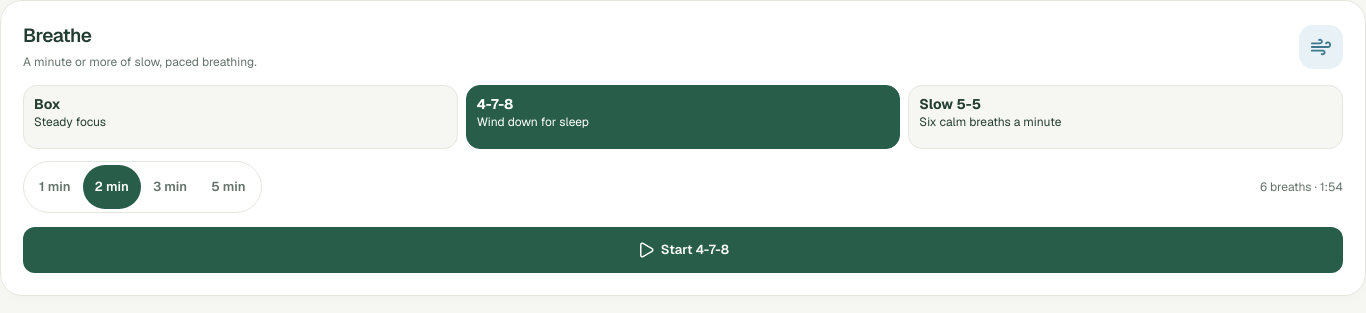
Test: Breathing › offers 4-7-8 in the evening and remembers the choice
expect the text "6 breaths · 1:54" is shown: met, box [1260,178,1343,196]
Click the button "Box Steady focus" at (70, 122), box [23,85,458,149]
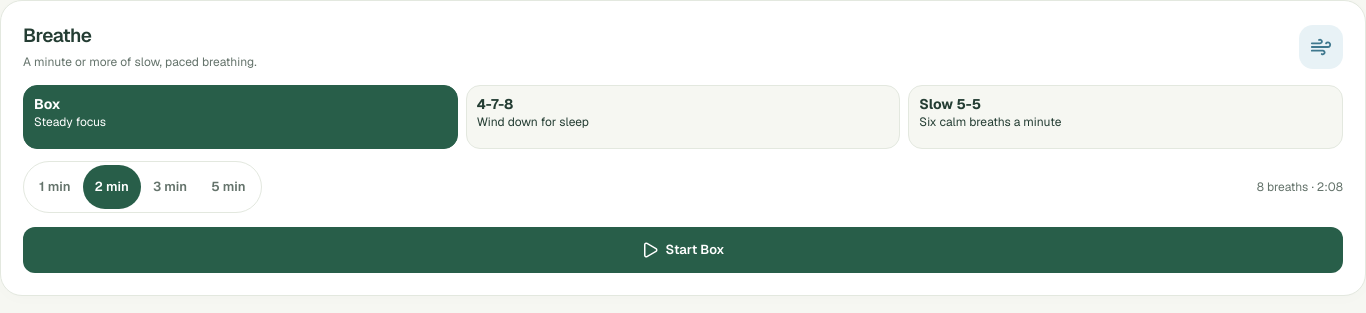
Click the button "5 min" at (228, 187), box [199,165,258,209]
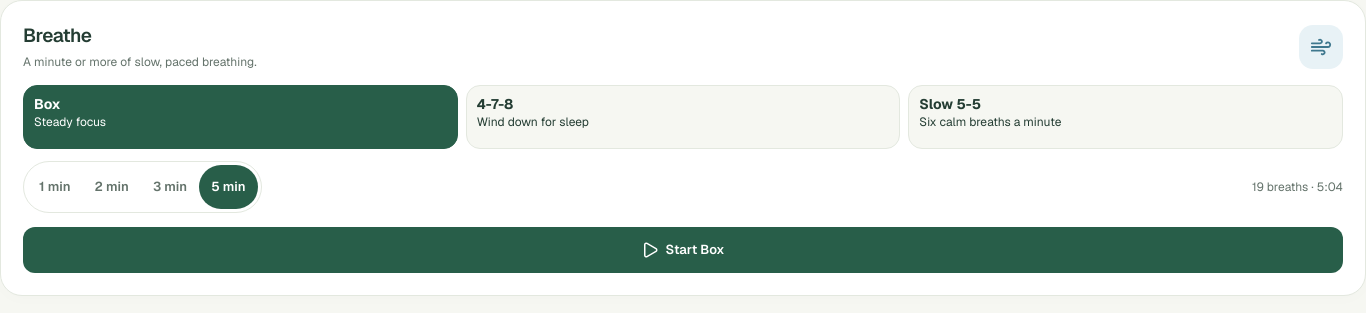
expect the text "19 breaths · 5:04" is shown: met, box [1252,178,1343,196]
